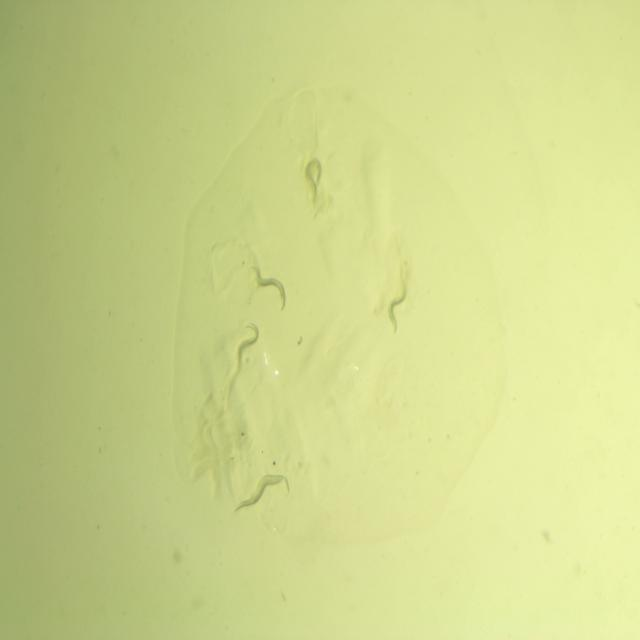worm: (230, 475, 286, 517), (241, 471, 291, 511), (250, 263, 288, 315), (234, 319, 261, 371), (384, 280, 408, 336), (302, 154, 324, 210)
